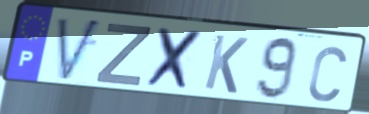9: (253, 36, 299, 103)
C: (306, 43, 349, 104)
K: (201, 32, 250, 97)
V: (55, 16, 104, 85)
X: (144, 25, 206, 94)
Z: (93, 21, 154, 89)
